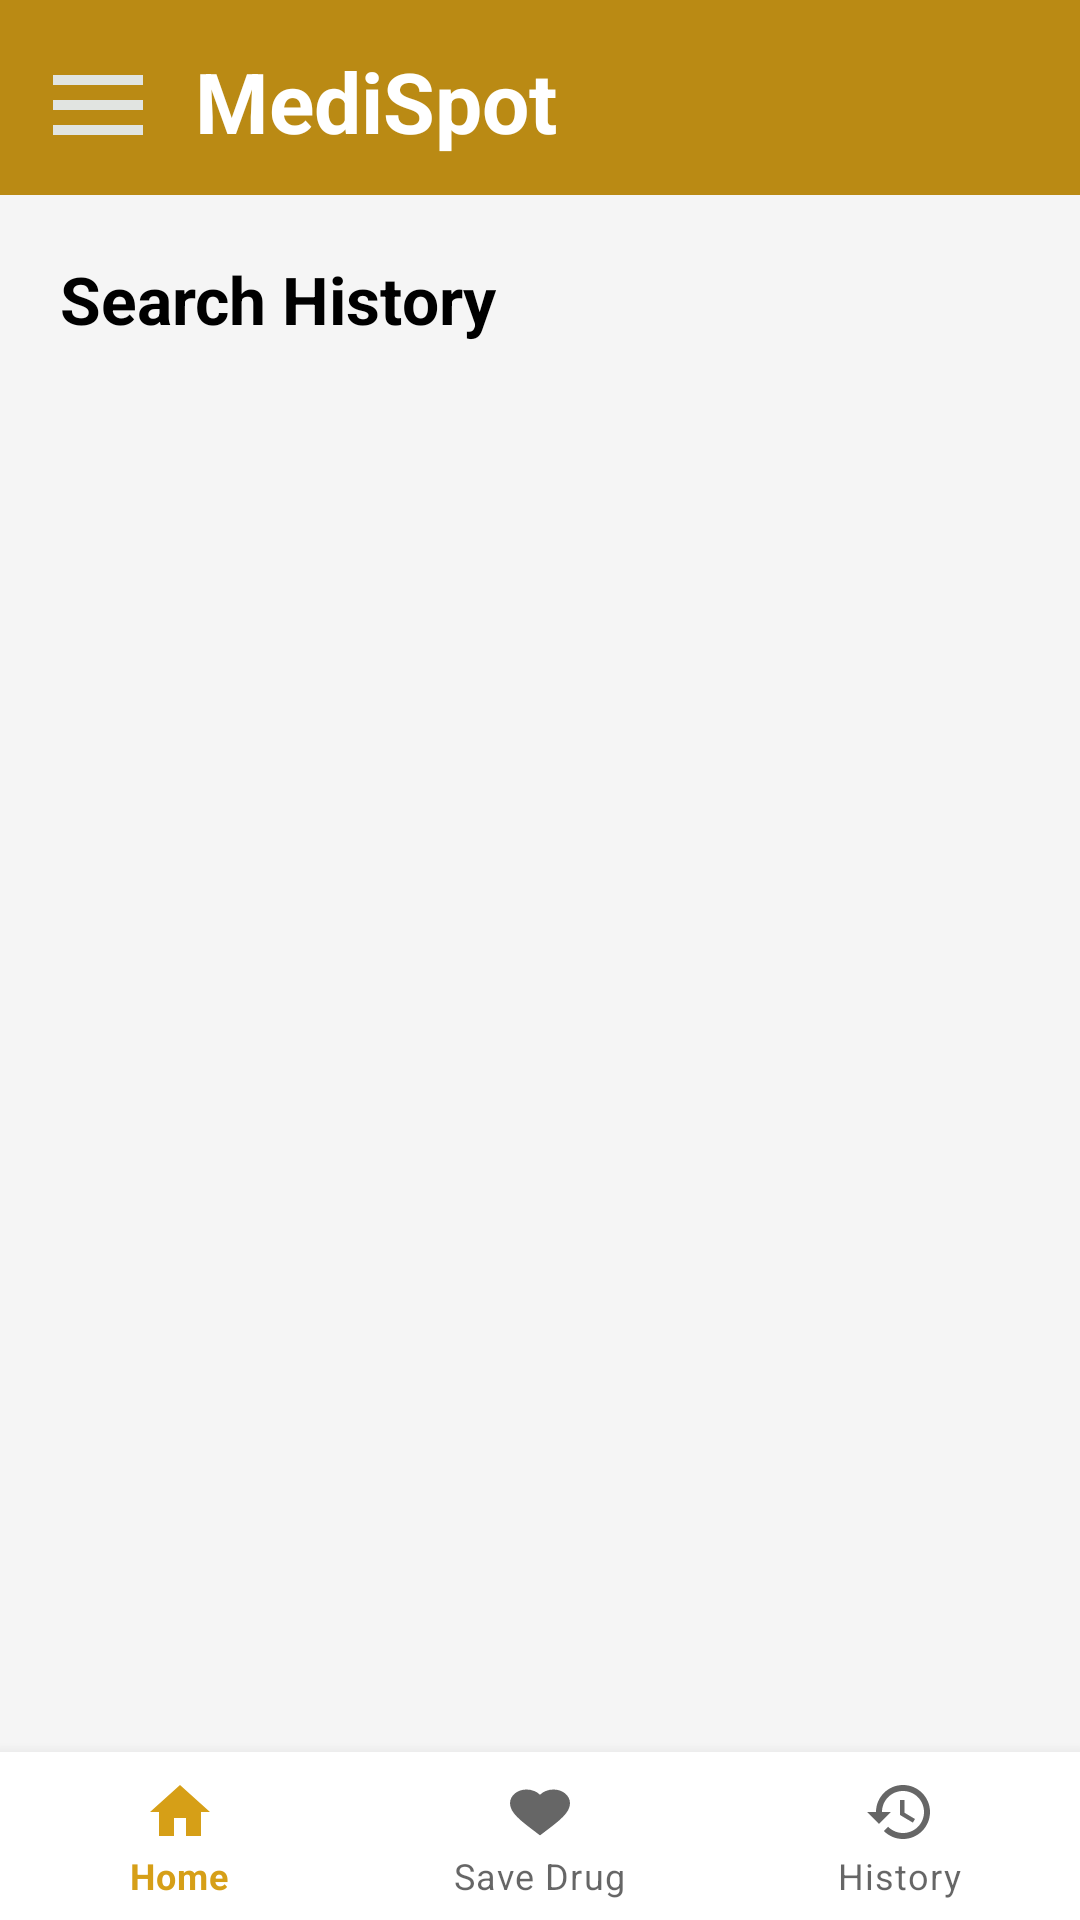

Named icons in this screenshot (1080×1920) and their bounding boxes, {"x1": x1, "y1": y1, "x2": x2, "y2": y2}:
menu: {"x1": 53, "y1": 75, "x2": 143, "y2": 135}
